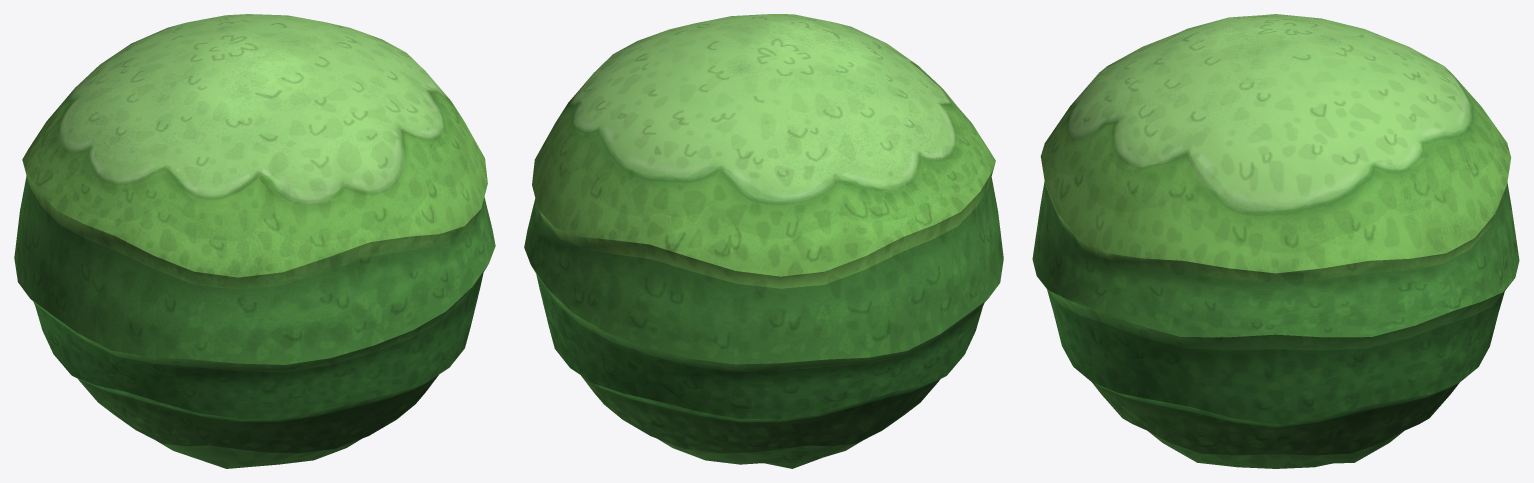
Rendered from Oak_Bush2.fbx.
3 renders of one model, left to right at view 1: azimuth 30°, elevation 25°; view 2: azimuth 150°, elevation 25°; view 3: azimuth 270°, elevation 25°, orthographic. The views are drawn at different scales.
Visible parts, largest first — view 1: Oak_Bush2; view 2: Oak_Bush2; view 3: Oak_Bush2.
Boxes of the visible parts, box(x1,y1,x2,y2) form: Oak_Bush2: box(14, 14, 495, 468); Oak_Bush2: box(524, 14, 1003, 468); Oak_Bush2: box(1032, 14, 1519, 468).
Bounding box in the file's own units: 148 × 133 × 148.
